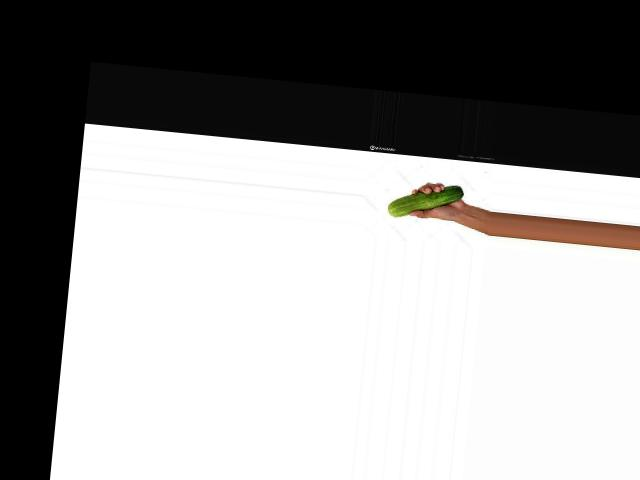cucumber: (388, 179, 464, 223)
